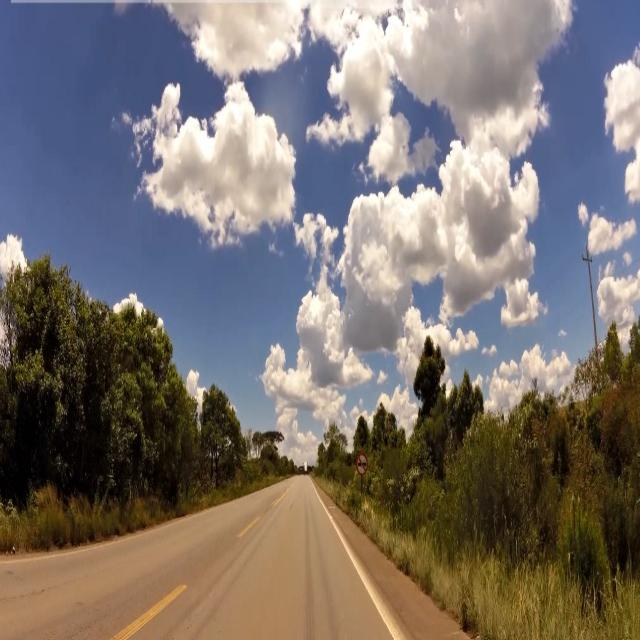R-7: (356, 452, 368, 477)
